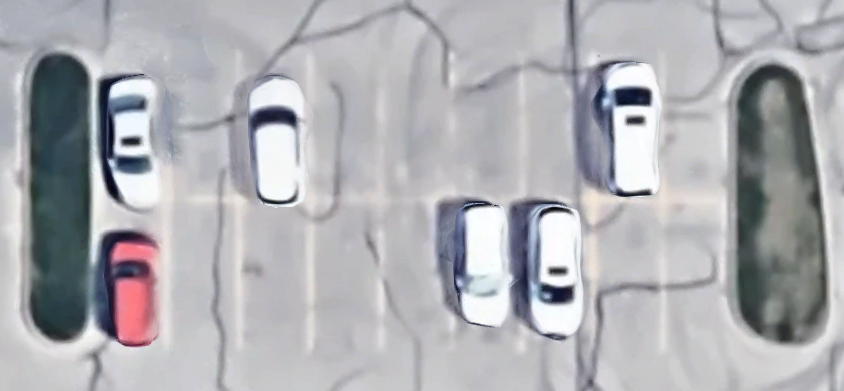Occupied: (91, 48, 170, 199), (92, 199, 168, 350), (520, 197, 595, 349), (236, 49, 309, 199), (452, 197, 521, 352), (593, 51, 661, 197)
Vacant: (235, 198, 312, 348), (379, 49, 451, 201), (520, 49, 593, 198), (308, 49, 380, 200), (661, 51, 734, 198), (169, 48, 239, 201), (168, 198, 239, 348), (311, 200, 382, 350), (382, 201, 453, 351), (450, 49, 521, 199), (662, 198, 733, 348), (594, 198, 663, 348)
